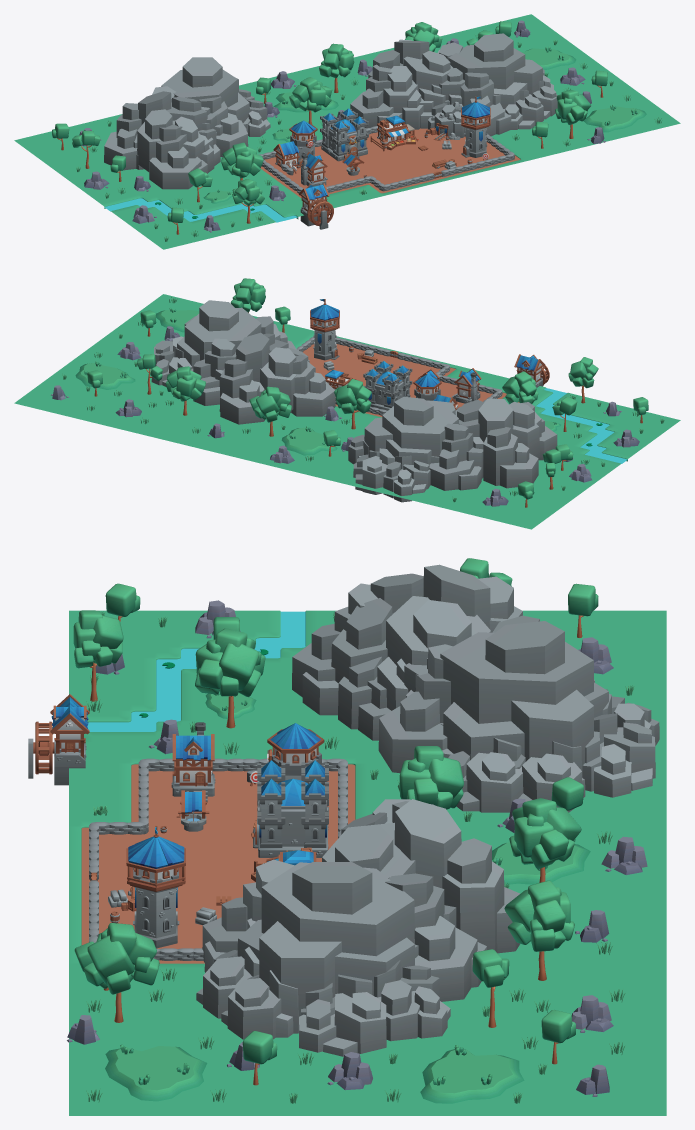
Rendered from Village-transformed.glb.
3 renders of one model, top to bottom at view 1: azimuth 30°, elevation 25°; view 2: azimuth 150°, elevation 25°; view 3: azimuth 270°, elevation 25°, orthographic. The views are drawn at different scales.
Parts seen in each view (by area): view 1: square_ground_detail2, mountain_A, mountain_A5, building_archeryrange_blue, fence_stone_straight, Tree_2_E_Color14, patch-grass-foliage6, Tree_2_E_Color1, Tree_2_E_Color18, Tree_2_E_Color16, patch-grass-foliage7, Tree_2_D_Color1 (+4 smaller); view 2: square_ground_detail2, mountain_A5, mountain_A, building_archeryrange_blue, fence_stone_straight, Tree_2_E_Color18, Tree_2_E_Color17, Tree_2_E_Color14, patch-grass-foliage5, Tree_2_E_Color16, patch-grass-foliage7, Tree_2_E_Color1 (+5 smaller); view 3: square_ground_detail2, mountain_A, mountain_A5, building_archeryrange_blue, fence_stone_straight, Tree_2_E_Color16, patch-grass-foliage6, patch-grass-foliage7, Tree_2_E_Color1, Tree_2_E_Color17, Tree_2_E_Color18, Tree_2_E_Color14 (+12 smaller).
Part boxes in pixels (x1,y1,x2,y2): square_ground_detail2: (14, 14, 680, 249); mountain_A: (350, 33, 557, 136); mountain_A5: (104, 57, 270, 189); building_archeryrange_blue: (273, 96, 490, 229); fence_stone_straight: (258, 126, 514, 193); Tree_2_E_Color14: (289, 77, 332, 124); patch-grass-foliage6: (583, 104, 646, 132); Tree_2_E_Color1: (221, 142, 263, 180); Tree_2_E_Color18: (319, 43, 354, 92); Tree_2_E_Color16: (555, 89, 590, 138); patch-grass-foliage7: (522, 46, 576, 69); Tree_2_D_Color1: (232, 179, 264, 223); square_ground_detail2: (14, 294, 680, 529); mountain_A5: (348, 396, 557, 502); mountain_A: (151, 300, 335, 424); building_archeryrange_blue: (299, 299, 549, 411); fence_stone_straight: (296, 337, 502, 415); Tree_2_E_Color18: (249, 386, 291, 436); Tree_2_E_Color17: (165, 366, 205, 415); Tree_2_E_Color14: (334, 379, 371, 429); patch-grass-foliage5: (281, 426, 337, 455); Tree_2_E_Color16: (230, 278, 265, 312); patch-grass-foliage7: (75, 361, 135, 389); Tree_2_E_Color1: (502, 371, 538, 403); square_ground_detail2: (69, 610, 666, 1115); mountain_A: (196, 799, 519, 1056); mountain_A5: (292, 564, 659, 812); building_archeryrange_blue: (28, 694, 328, 948); fence_stone_straight: (89, 758, 347, 960); Tree_2_E_Color16: (74, 923, 159, 1022); patch-grass-foliage6: (105, 1044, 207, 1101); patch-grass-foliage7: (420, 1045, 524, 1103); Tree_2_E_Color1: (195, 628, 265, 728); Tree_2_E_Color17: (504, 880, 574, 980); Tree_2_E_Color18: (509, 798, 581, 882); Tree_2_E_Color14: (397, 746, 463, 809).
Size of the model in its own units: 96 by 12.96 by 51.28.
8 materials, 5 textured.
